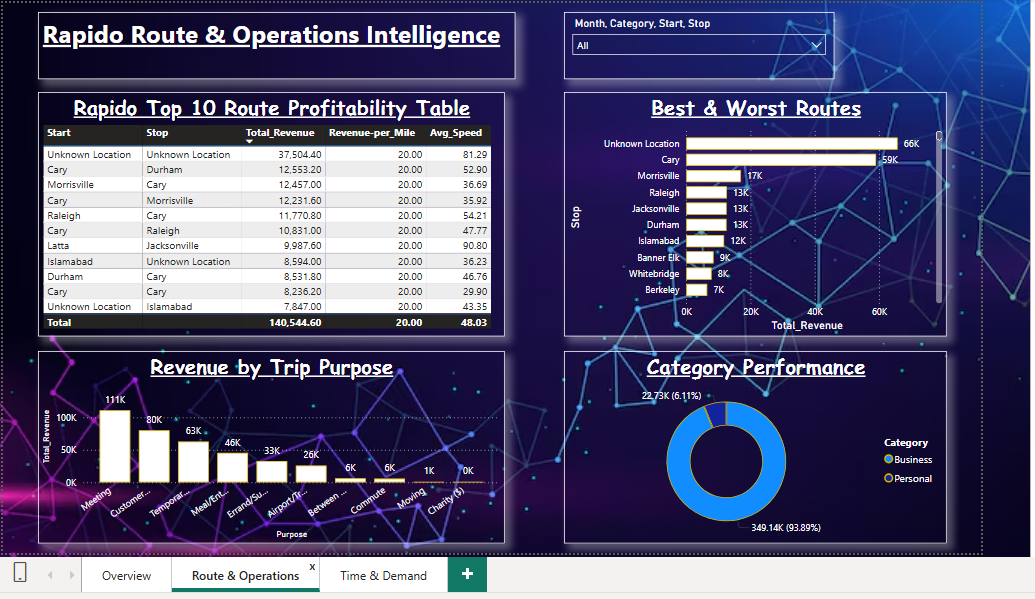

What the dashboard file says about the page in this screenshot:
{"tool":"powerbi","page":{"name":"Route & Operations","canvas":[1280,720],"ordinal":1},"visuals":[{"type":"tableEx","title":"Rapido Top 10 Route Profitability Table","fields":{"Values":["Rapido_Dataset.Start","Rapido_Dataset.Stop","Rapido_Dataset.Total_Revenue","Rapido_Dataset.Revenue-per_Mile","Rapido_Dataset.Avg_Speed"]},"box":[46.1,116.6,610.6,319.7],"z":0},{"type":"barChart","title":"Best & Worst Routes","fields":{"Category":["Rapido_Dataset.Stop","Rapido_Dataset.Start"],"Y":["Rapido_Dataset.Total_Revenue"]},"box":[734.4,116.6,501.1,319.7],"z":1000},{"type":"columnChart","title":"Revenue by Trip Purpose","fields":{"Category":["Rapido_Dataset.Purpose"],"Y":["Rapido_Dataset.Total_Revenue"]},"box":[46.1,455,610.6,252],"z":2000},{"type":"donutChart","title":"Category Performance","fields":{"Category":["Rapido_Dataset.Category"],"Y":["Rapido_Dataset.Total_Revenue"]},"box":[734.4,455,501.1,252],"z":3000},{"type":"slicer","fields":{"Values":["Calender.Month","Rapido_Dataset.Category","Rapido_Dataset.Start","Rapido_Dataset.Stop"]},"box":[734.4,11.5,354.2,87.8],"z":4000},{"type":"textbox","box":[46.1,11.5,666.7,87.8],"z":5000}]}

Visuals, with their boxes on the page's 1280x720 design canvas (x1, y1, x2, y2). These are canvas units, not pixel positions in the 1035x599 screenshot, which may show the page scaled, cropped or inside an application window:
"Rapido Top 10 Route Profitability Table" tableEx: (46,117,657,436)
"Best & Worst Routes" barChart: (734,117,1236,436)
"Revenue by Trip Purpose" columnChart: (46,455,657,707)
"Category Performance" donutChart: (734,455,1236,707)
slicer - Calender.Month x Rapido_Dataset.Category: (734,12,1089,99)
textbox: (46,12,713,99)
